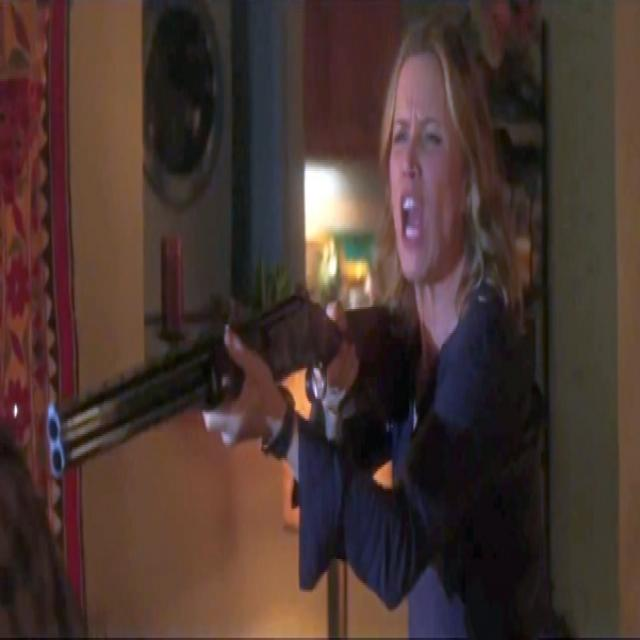rifle: (43, 283, 397, 496)
